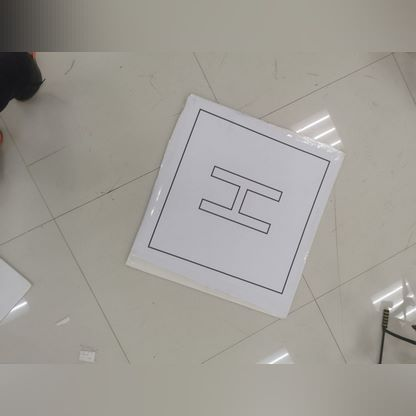H: (187, 149, 294, 254)
